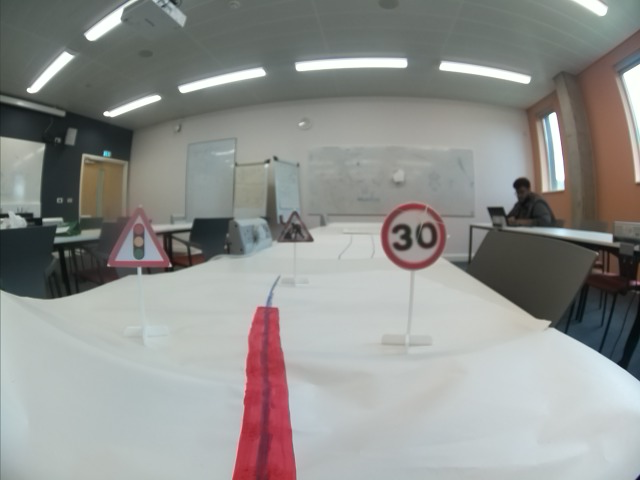30mph: (379, 202, 447, 271)
Roadworks: (279, 211, 313, 242)
Traffic lights: (108, 204, 172, 267)
